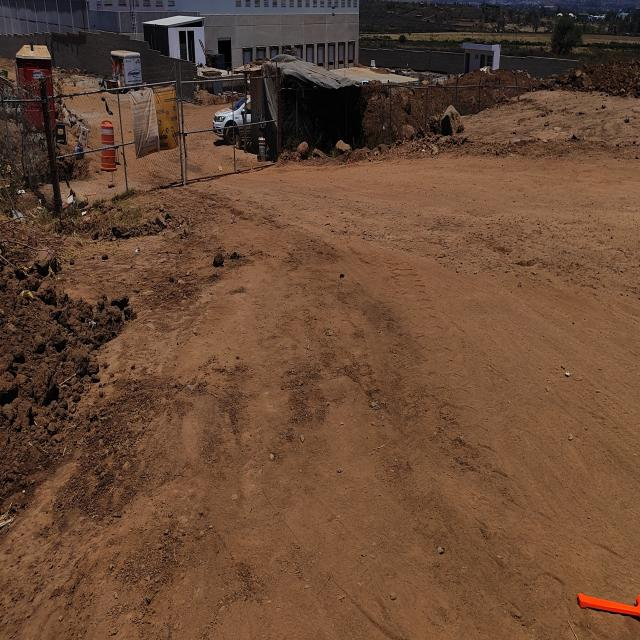Orange_hammer: (571, 581, 640, 628)
